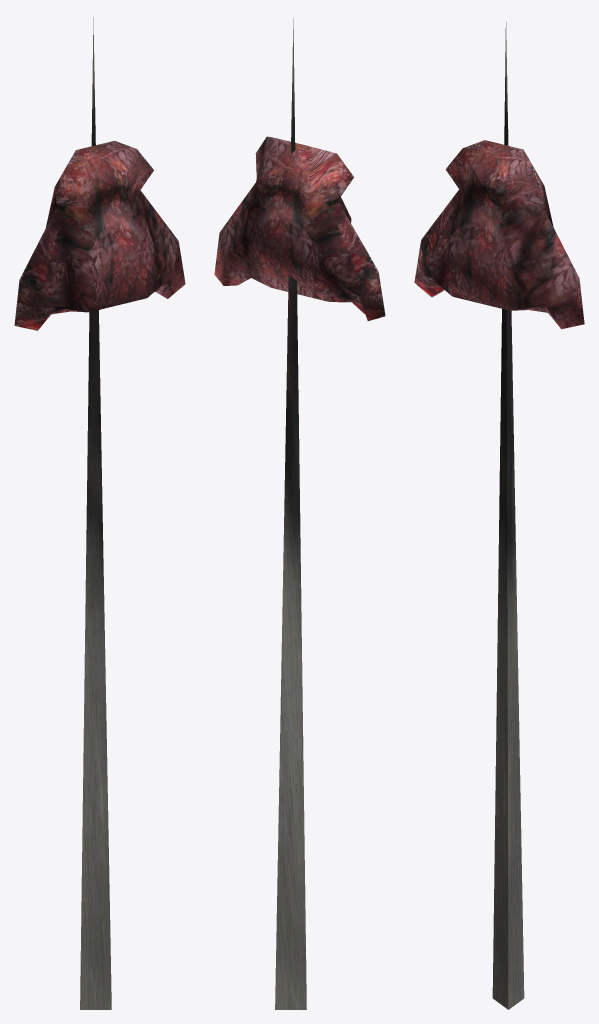
File: eqp_camping_spit_l1.fbx
3 renders of one model, left to right at view 1: azimuth 30°, elevation 25°; view 2: azimuth 150°, elevation 25°; view 3: azimuth 330°, elevation 25°, orthographic.
Visible parts, largest first — view 1: mesh_node; view 2: mesh_node; view 3: mesh_node.
Part boxes in pixels (x1=…): mesh_node: x1=14, y1=17, x2=185, y2=1009; mesh_node: x1=214, y1=18, x2=385, y2=1009; mesh_node: x1=414, y1=22, x2=584, y2=1009.
Bounding box in the file's own units: 0.136 × 0.7538 × 0.0567.
Materials: 1 (1 with a texture image).
